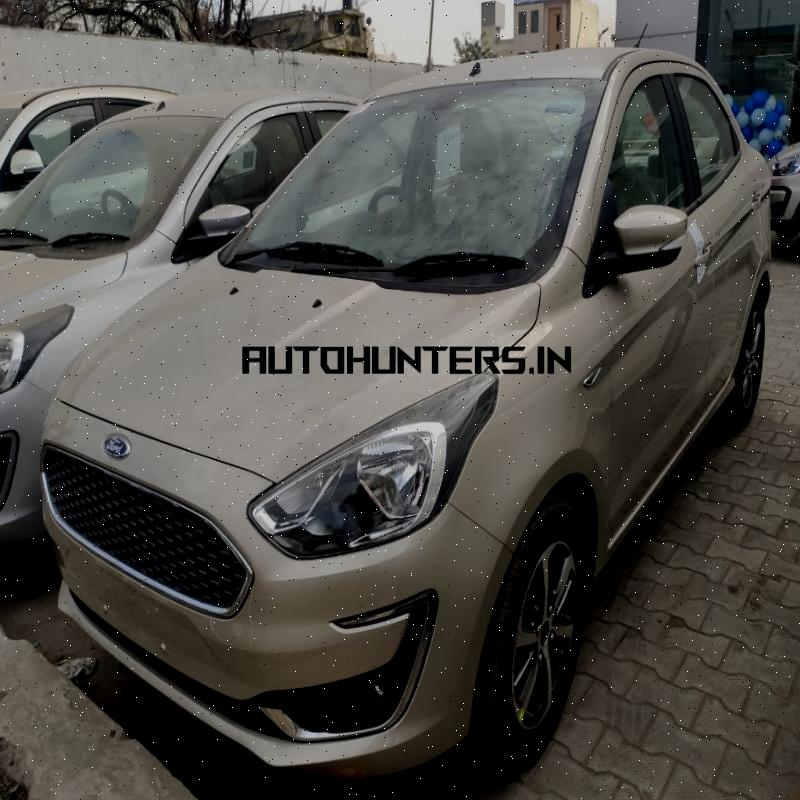car: (41, 64, 795, 763)
